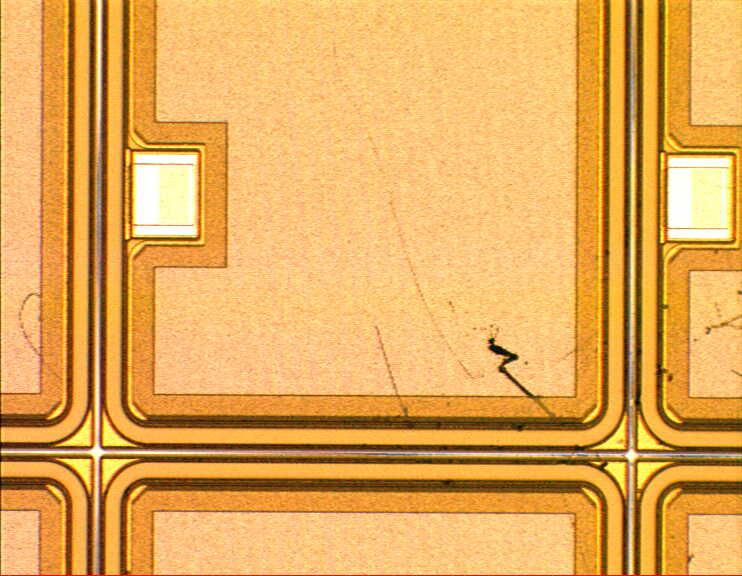SCRATCH: (14, 24, 742, 432)
